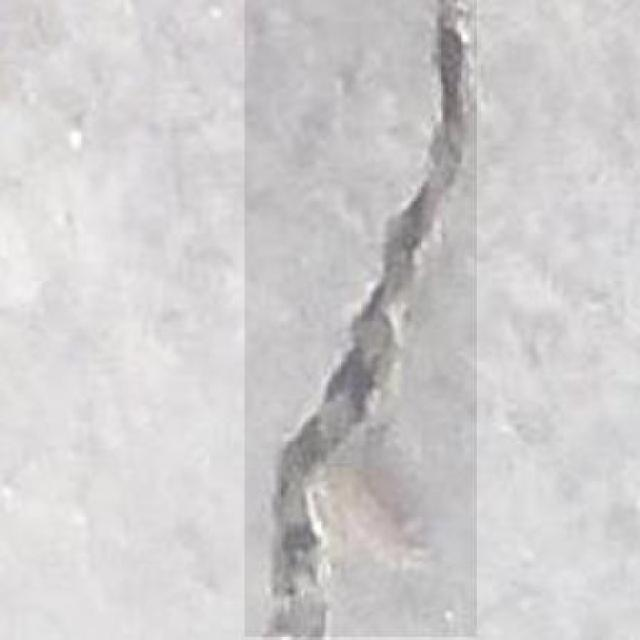Crack: (247, 0, 478, 640)
